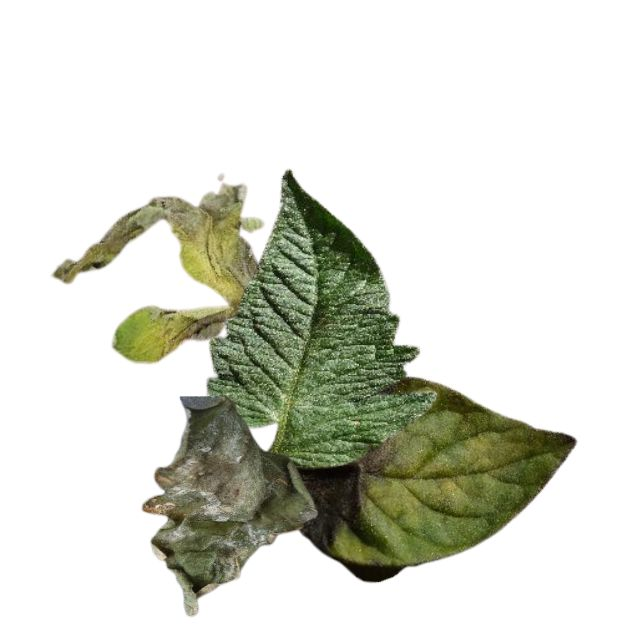Late_blight: (143, 397, 315, 613), (50, 181, 257, 285), (314, 439, 398, 550), (136, 306, 229, 362)
